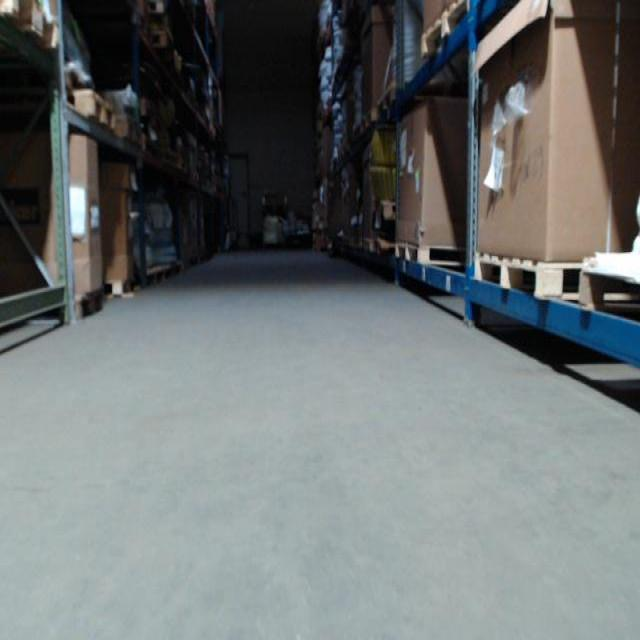pallet: (472, 250, 583, 305), (419, 0, 469, 59), (70, 84, 115, 130), (394, 239, 466, 267), (77, 287, 105, 318), (375, 80, 397, 118), (361, 106, 375, 132)
